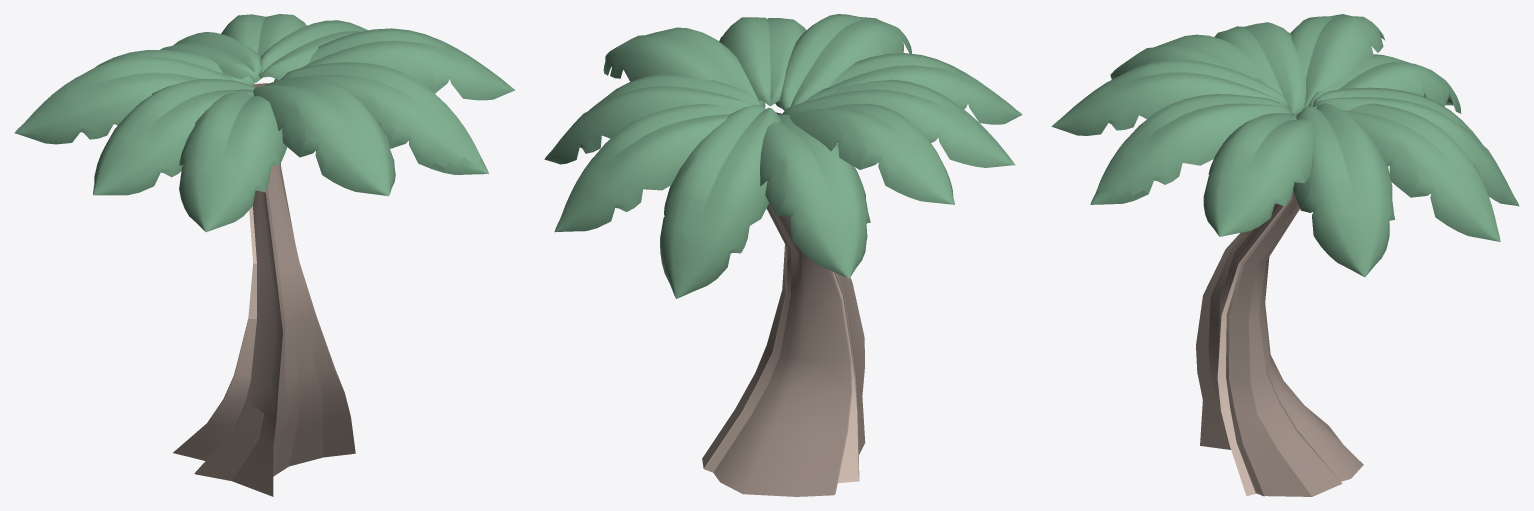
File: PalmyThePalm.fbx
3 renders of one model, left to right at view 1: azimuth 30°, elevation 25°; view 2: azimuth 150°, elevation 25°; view 3: azimuth 270°, elevation 25°, orthographic. The views are drawn at different scales.
Visible parts, largest first — view 1: polySurface13; view 2: polySurface13; view 3: polySurface13.
Part boxes in pixels (x1,y1,x2,y2): polySurface13: (14,14,515,496); polySurface13: (544,14,1022,496); polySurface13: (1051,14,1519,496).
Bounding box in the file's own units: 44.5 × 40.17 × 43.39.
